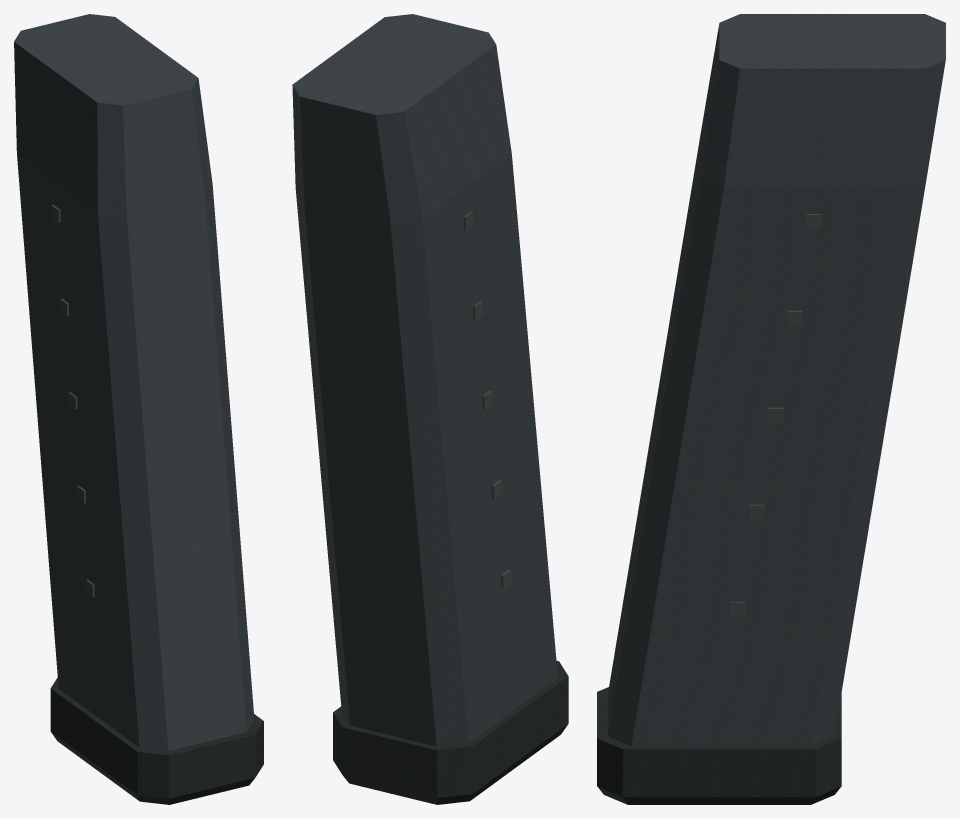
The picture shows the model from 3 angles, left to right: view 1: azimuth 30°, elevation 25°; view 2: azimuth 150°, elevation 25°; view 3: azimuth 270°, elevation 25°; orthographic projection. The views are drawn at different scales.
Parts seen in each view (by area): view 1: tt_8_individual_shell, tt_8_individual_shell.001, tt_8_floorplate, tt_8_witness_inset; view 2: tt_8_individual_shell, tt_8_individual_shell.001, tt_8_floorplate, tt_8_witness_inset; view 3: tt_8_individual_shell, tt_8_individual_shell.001, tt_8_floorplate, tt_8_witness_inset.
Boxes of the visible parts, <box> form: tt_8_individual_shell: <box>14,14,254,750</box>; tt_8_individual_shell.001: <box>25,89,254,750</box>; tt_8_floorplate: <box>50,678,263,804</box>; tt_8_witness_inset: <box>51,205,94,597</box>; tt_8_individual_shell: <box>292,14,557,746</box>; tt_8_individual_shell.001: <box>300,97,557,746</box>; tt_8_floorplate: <box>333,661,568,804</box>; tt_8_witness_inset: <box>463,211,510,589</box>; tt_8_individual_shell: <box>608,14,945,746</box>; tt_8_individual_shell.001: <box>608,30,907,745</box>; tt_8_floorplate: <box>597,687,841,804</box>; tt_8_witness_inset: <box>730,214,821,616</box>.
Size of the model in its own units: 0.0429 by 0.214 by 0.0924.
Materials: 3 (2 with a texture image).
